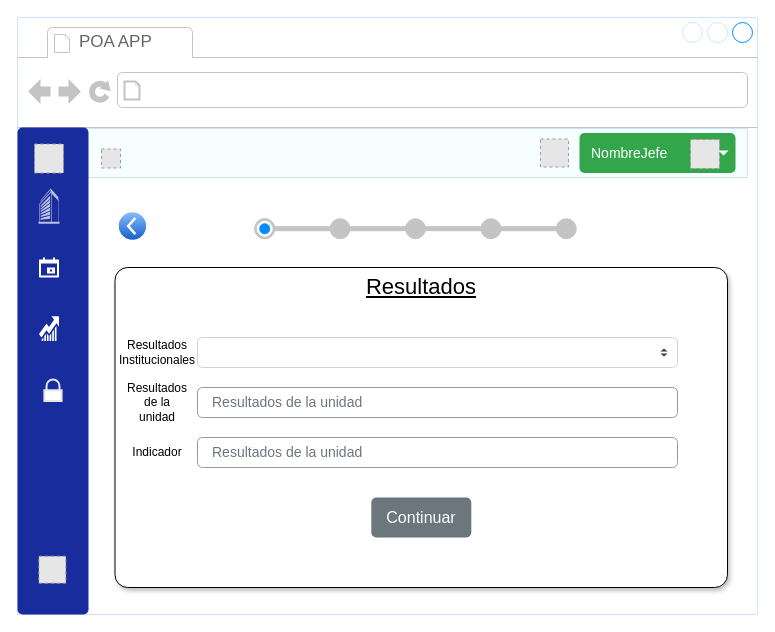
The diagram is 775 pixels wide and 632 high, and some of its shapes have lost their labels. Grey dashed boxes stand in for pictures. The shapes that lost their labels are listed below. From the top down, each one's centre as x and y in pixels, then its label:
At point (272, 90): "https://www.poa.com/administrativo/pendientes/Dimension-Estrategica-1".
At point (415, 226): "Paso 1 Paso 2 Paso 3 Paso 4 Paso 5".
